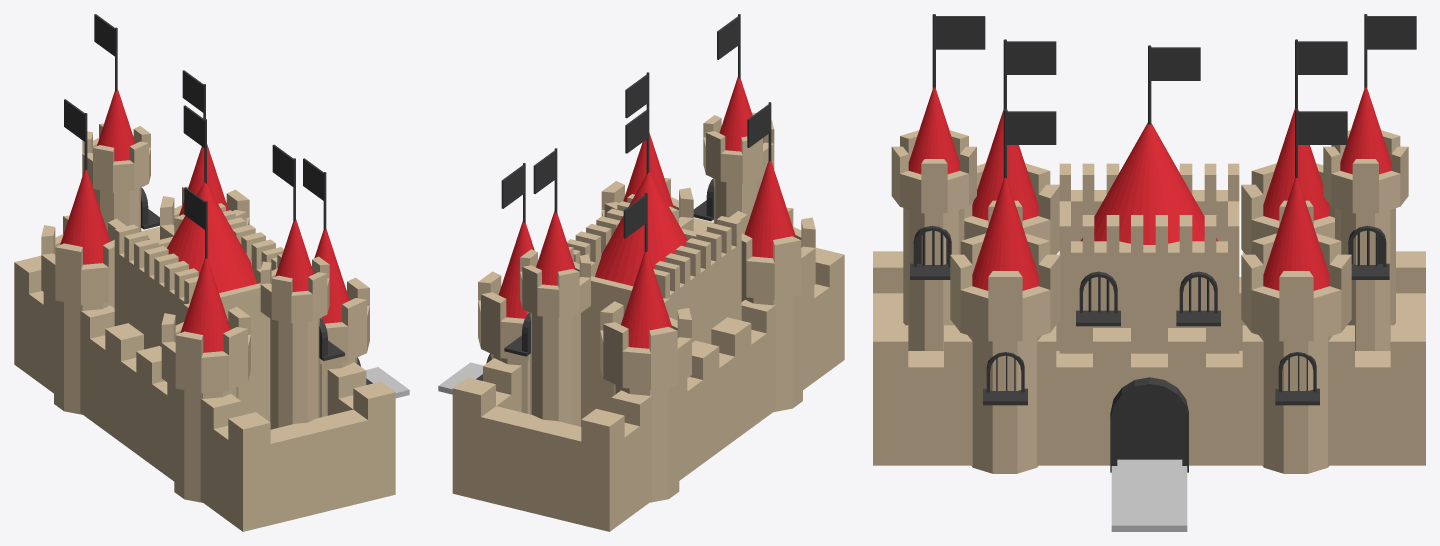
Rendered from castle.fbx.
3 views of the same model, side by side, from view 1: azimuth 30°, elevation 25°; view 2: azimuth 150°, elevation 25°; view 3: azimuth 270°, elevation 25° (orthographic). The views are drawn at different scales.
Visible parts, largest first — view 1: Cube; view 2: Cube; view 3: Cube.
Boxes of the visible parts, x1,y1,x2,y2 form: Cube: (14,14,409,531); Cube: (438,14,844,531); Cube: (873,14,1425,531).
Size of the model in its own units: 1244 by 1407 by 1728.
